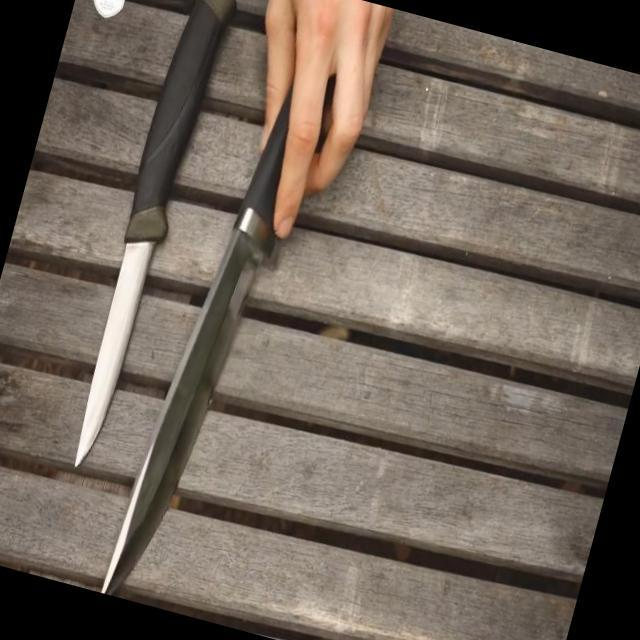Knife: (96, 120, 354, 626), (38, 175, 184, 506)
